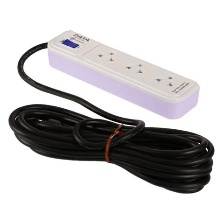three_eye_plug: (43, 26, 202, 122)
